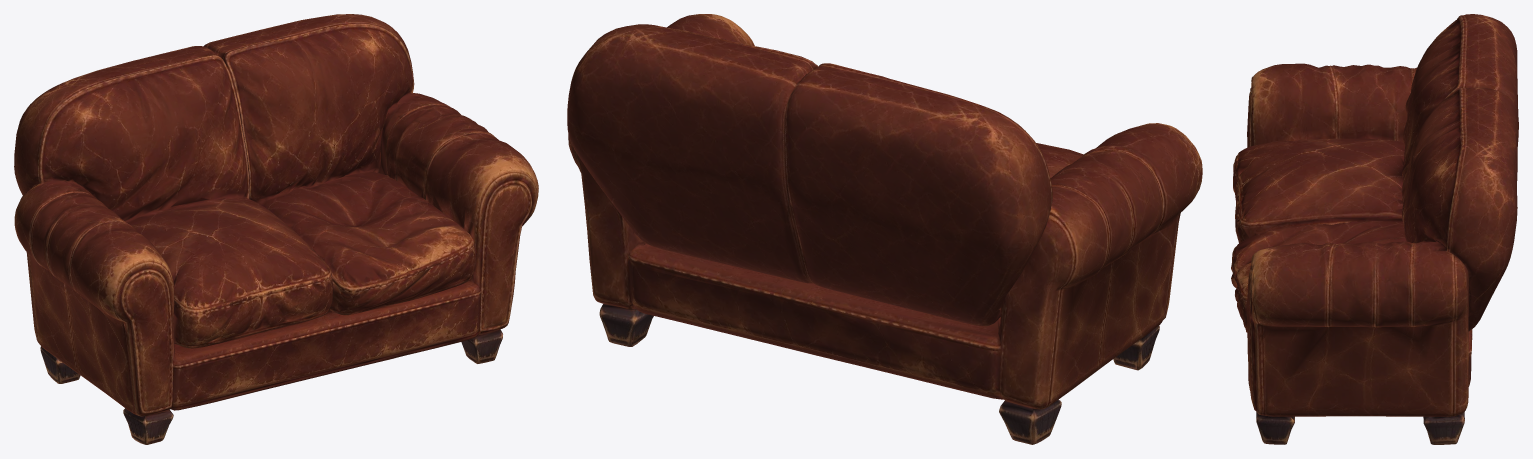
File: d_sofa.glb
3 renders of one model, left to right at view 1: azimuth 30°, elevation 25°; view 2: azimuth 150°, elevation 25°; view 3: azimuth 270°, elevation 25°, orthographic. The views are drawn at different scales.
Size of the model in its own units: 1.9 by 1.15 by 1.08.
1 material, 1 textured.
